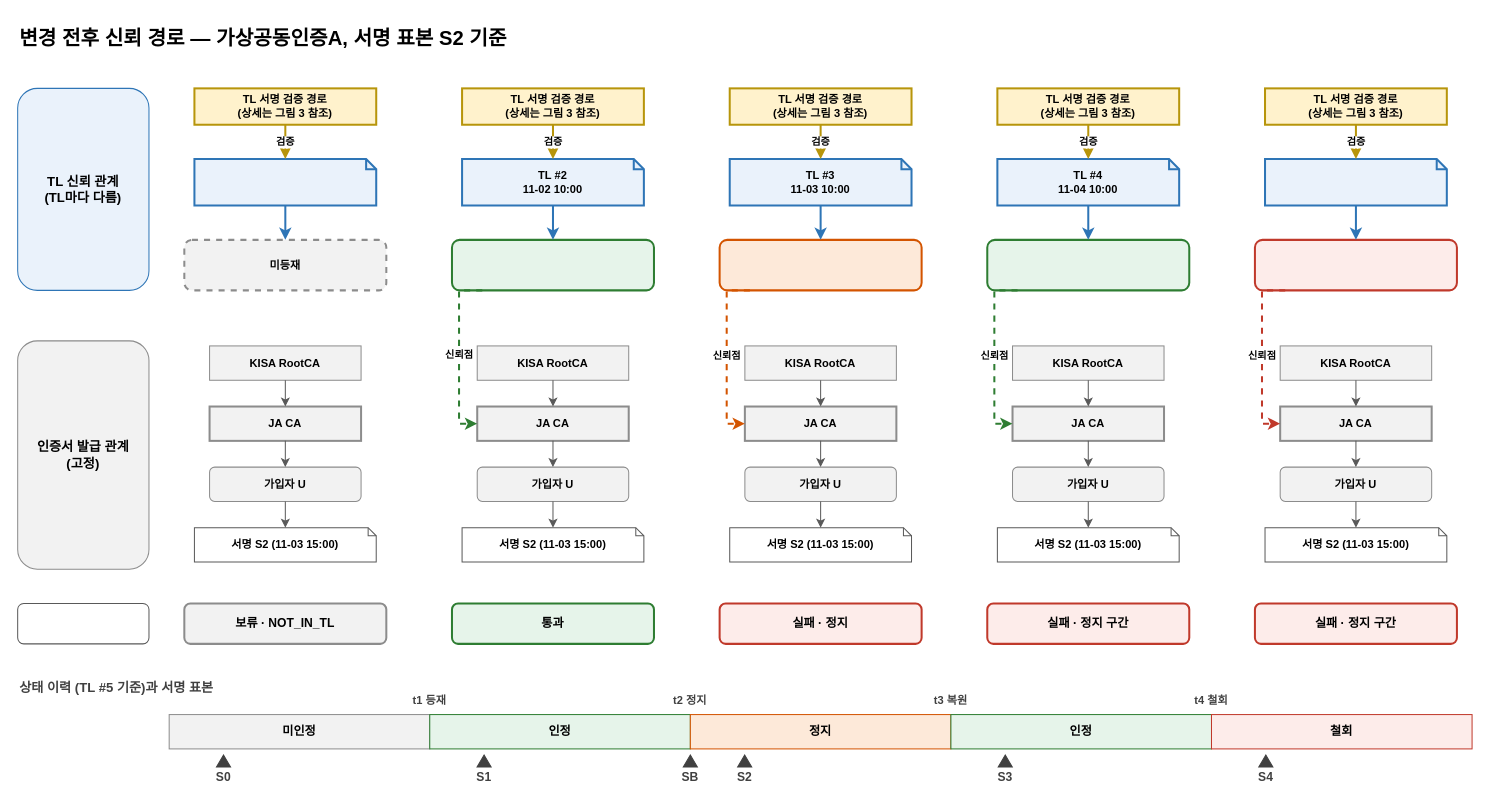
Some shapes in this 1490 by 804 pixel diagram are drawn without their labels. Each missing label, with the centre of its shape:
JA CA · 인정: point (552, 264)
JA CA · 인정 (t3~) 정지 이력 유지: point (1088, 264)
JA CA · 정지 (t2~): point (820, 264)
JA CA · 철회 (t4~) 이력 유지: point (1355, 264)
TL #1 11-01 10:00: point (285, 182)
TL #5 11-05 10:00: point (1355, 182)
판정 (S2): point (83, 623)
